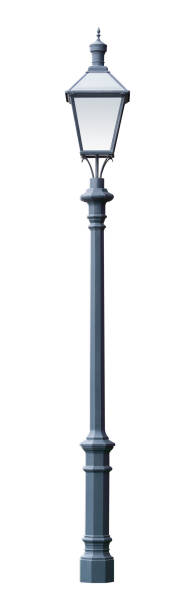light_pole: (74, 186, 120, 584)
